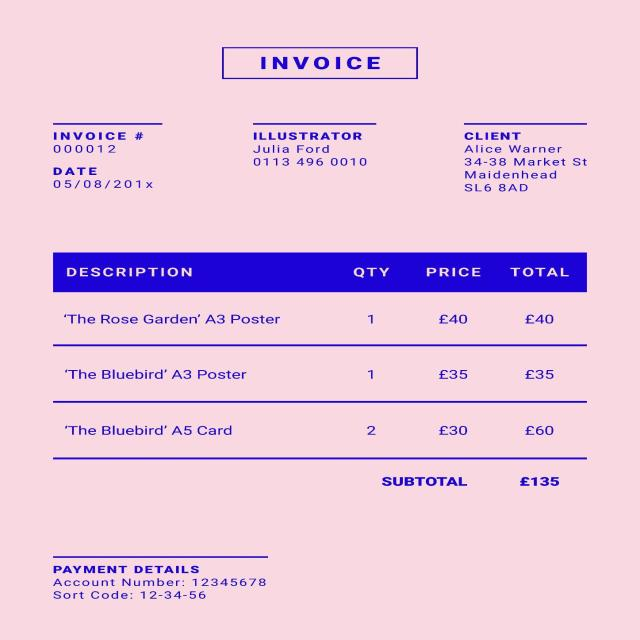paragraph: (44, 553, 277, 611), (458, 117, 604, 204), (229, 121, 388, 176), (43, 128, 165, 195), (359, 465, 579, 496), (222, 47, 414, 76)
table: (52, 255, 579, 456)
